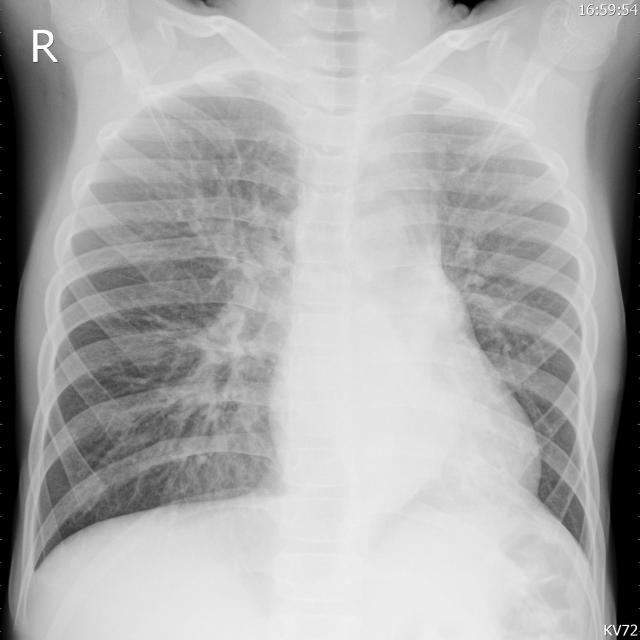low-pneumonia: (163, 202, 298, 411)
